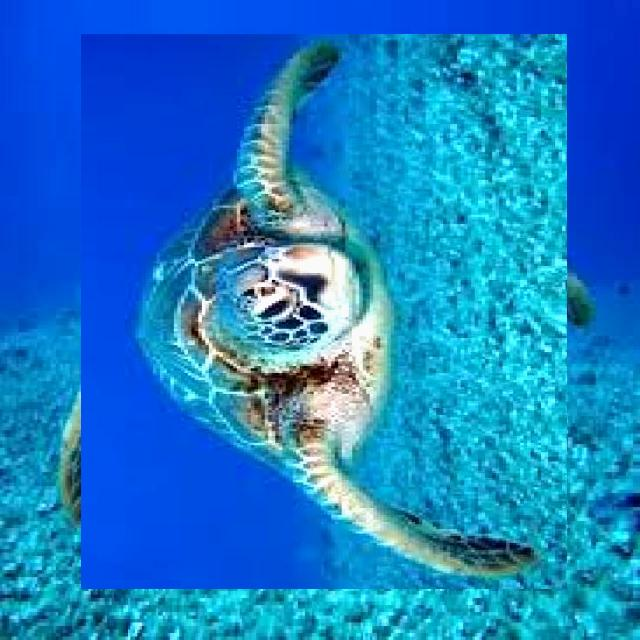Sea turtle: (64, 51, 584, 572)
